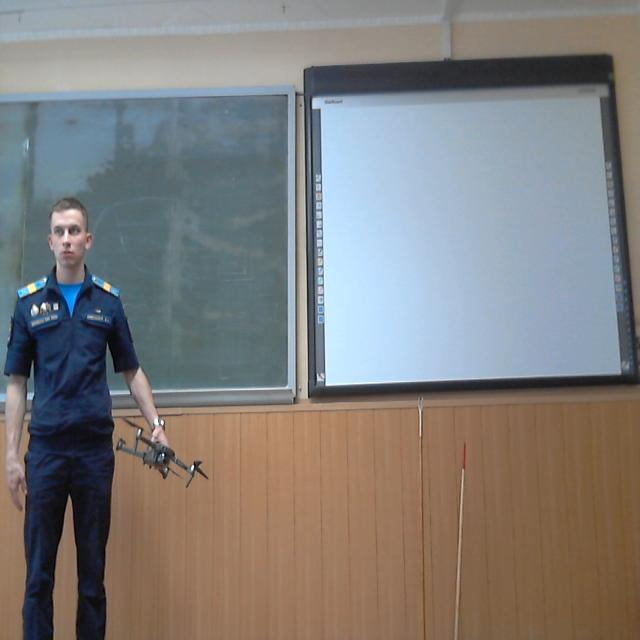drone: (107, 400, 215, 490)
